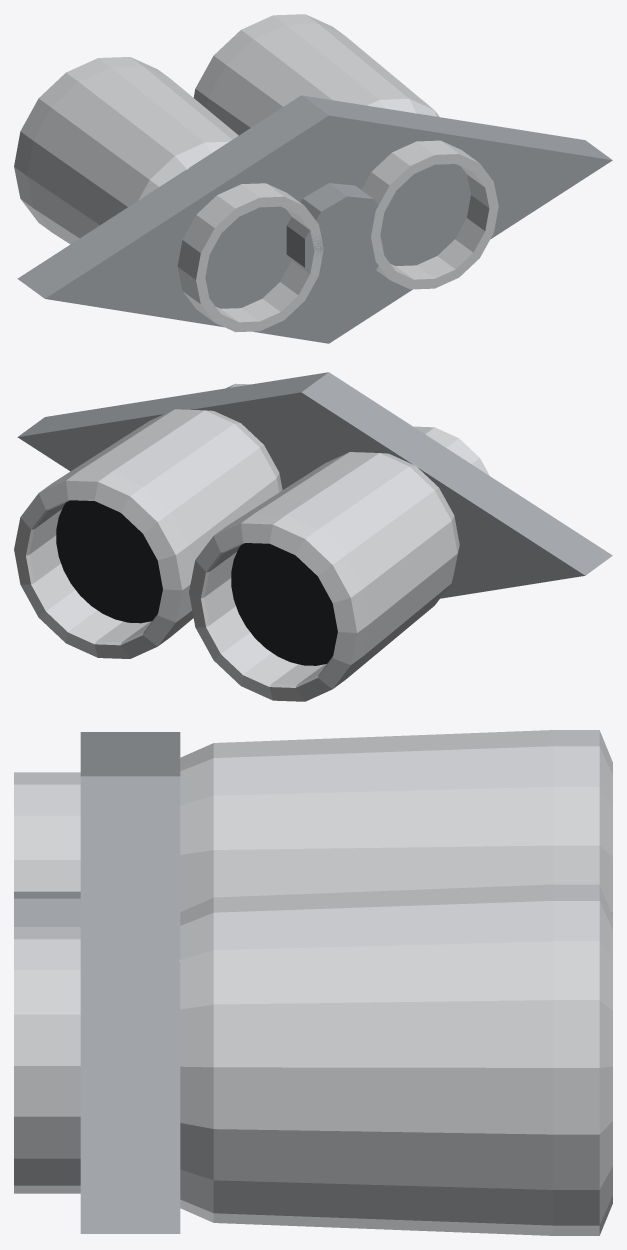
Rendered from streetline_89.glb.
3 views of the same model, one above another, from view 1: azimuth 30°, elevation 25°; view 2: azimuth 150°, elevation 25°; view 3: azimuth 270°, elevation 25° (orthographic). The views are drawn at different scales.
Parts seen in each view (by area): view 1: model; view 2: model; view 3: model.
Boxes of the visible parts, x1=… form: model: x1=14, y1=14, x2=612, y2=343; model: x1=14, y1=372, x2=612, y2=701; model: x1=14, y1=730, x2=612, y2=1235.
Bounding box in the file's own units: 0.3569 × 0.1371 × 0.18.
Materials: 3 (1 with a texture image).
